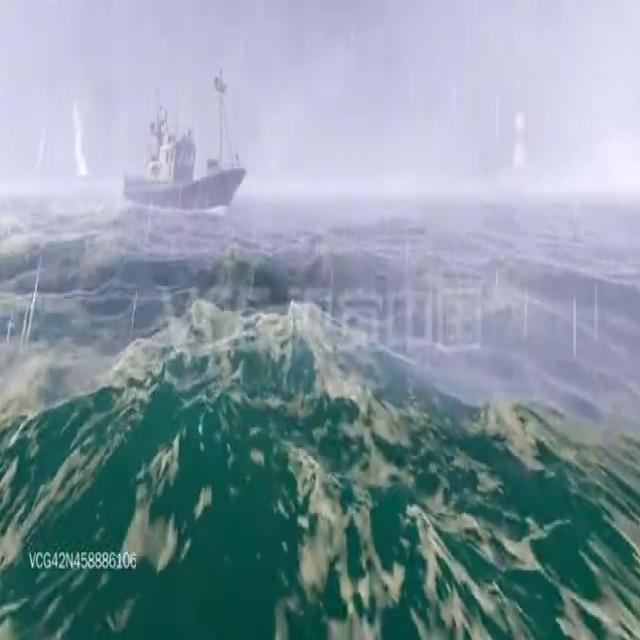fishing boat: (116, 72, 246, 208)
